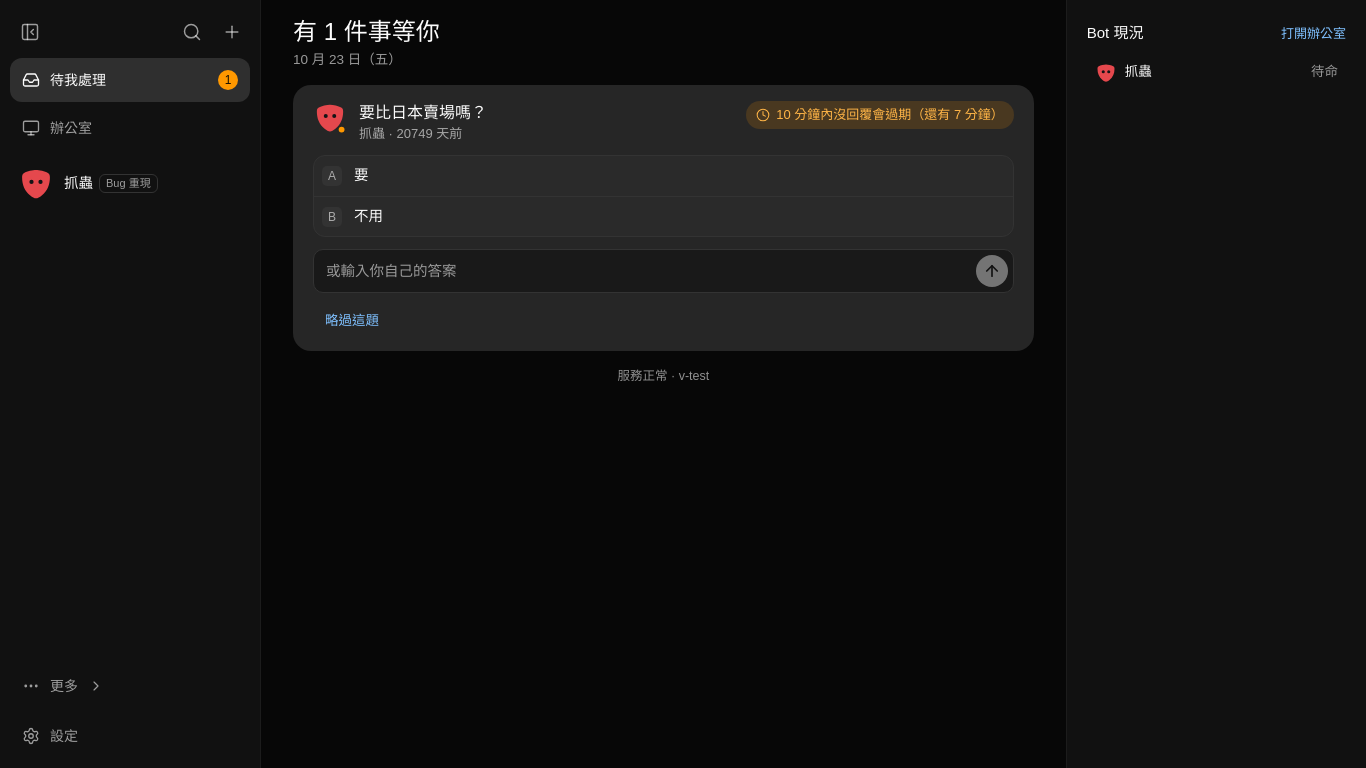
Test: Bot 在對話裡的提問：在待我處理就地回答（chat.respond）
Expected: the element with test id "ask-expiry" shows "還有 7 分鐘", [776,107,1004,122]
What coordinates should you click on to do the following:
click the button "B 不用"
I would click on:
 (332, 217)
Its box is [314,196,1013,236].
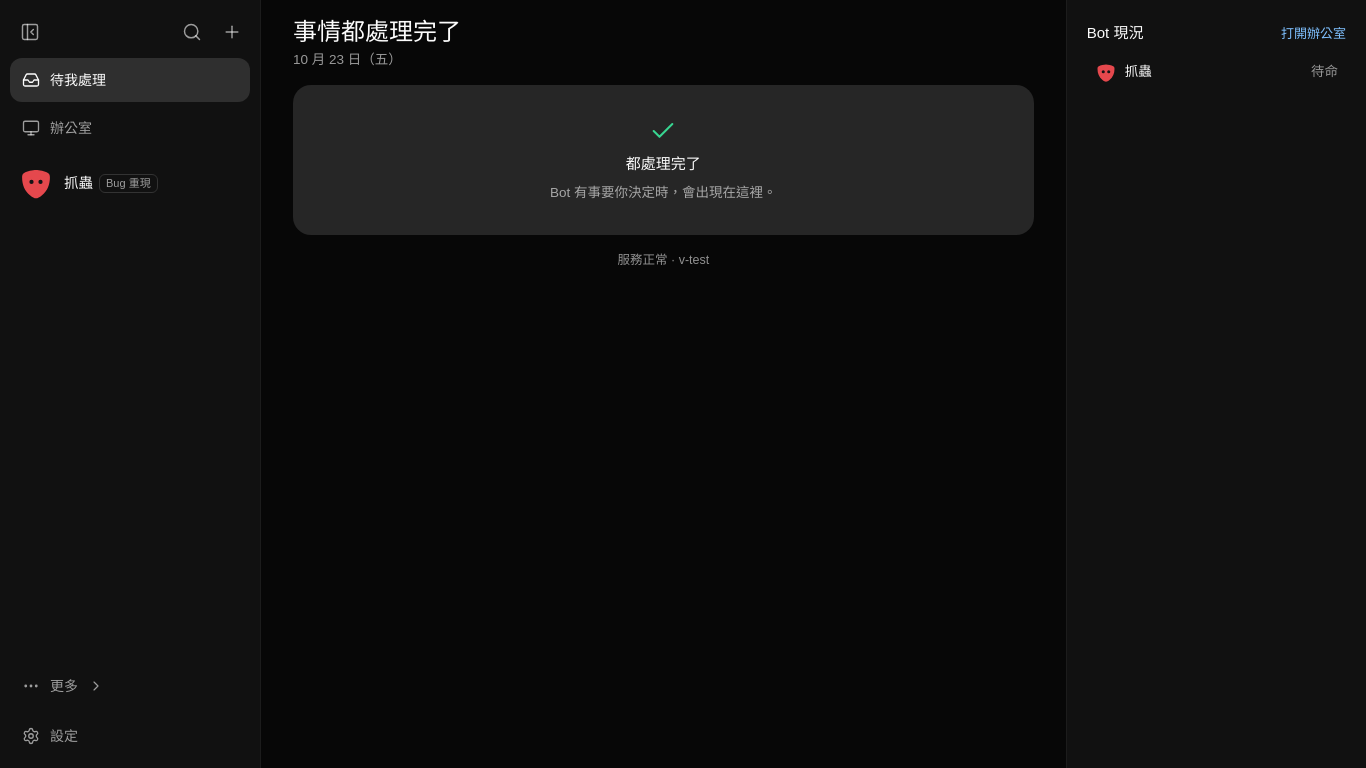
Now the element with test id "ask-card" is gone
